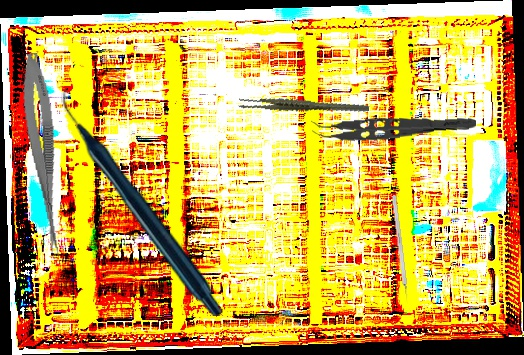Handpiece: (61, 87, 223, 316)
Hook Surgical: (391, 195, 410, 304)
Micro Scissor: (16, 51, 73, 259)
Tissue Forceps: (237, 75, 370, 137), (311, 102, 477, 147)
